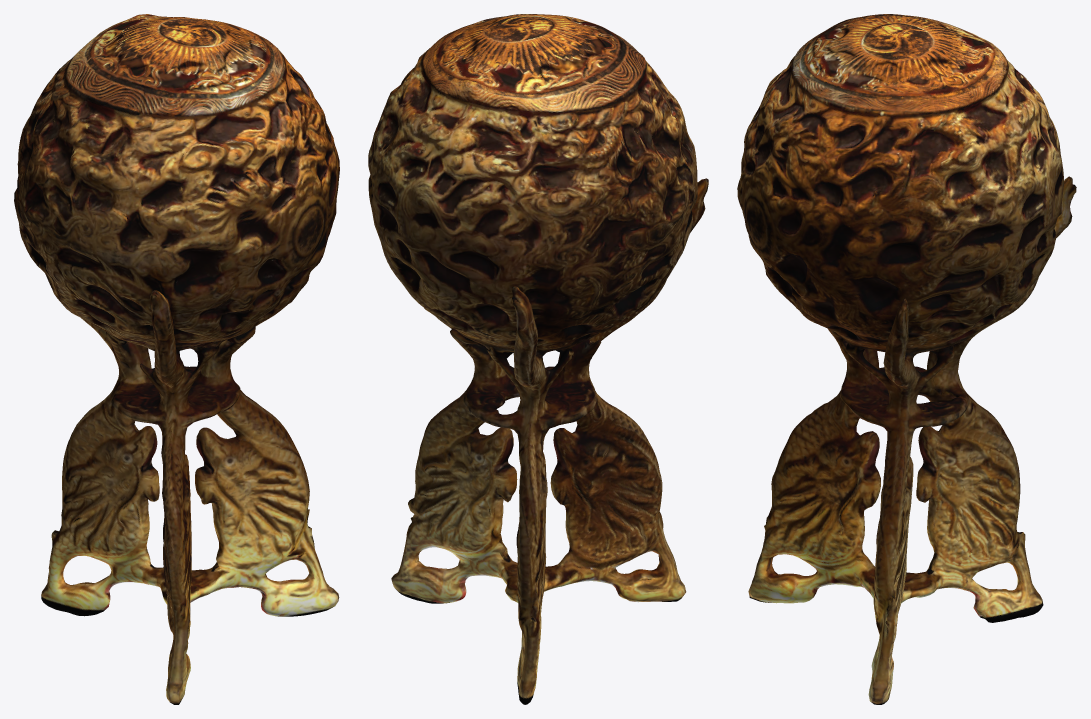
Rendered from qua-cau-cuu-long.glb.
3 renders of one model, left to right at view 1: azimuth 30°, elevation 25°; view 2: azimuth 150°, elevation 25°; view 3: azimuth 270°, elevation 25°, orthographic.
Parts seen in each view (by area): view 1: QuaCauCuuLong_1; view 2: QuaCauCuuLong_1; view 3: QuaCauCuuLong_1.
Part boxes in pixels (<box>): QuaCauCuuLong_1: <box>14,14,339,704</box>; QuaCauCuuLong_1: <box>368,14,708,704</box>; QuaCauCuuLong_1: <box>737,14,1076,704</box>.
Size of the model in its own units: 0.5047 by 0.966 by 0.4839.
1 material, 1 textured.
